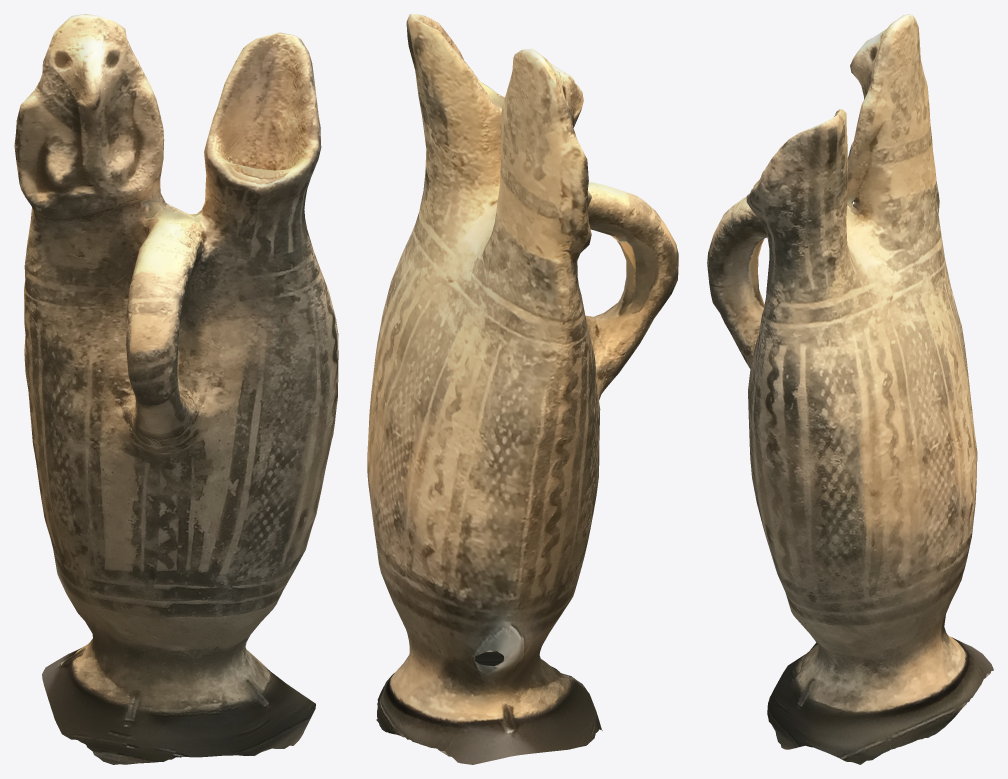
File: toy.glb
3 views of the same model, side by side, from view 1: azimuth 30°, elevation 25°; view 2: azimuth 150°, elevation 25°; view 3: azimuth 270°, elevation 25° (orthographic). The views are drawn at different scales.
Parts seen in each view (by area): view 1: Object_2; view 2: Object_2; view 3: Object_2.
Boxes of the visible parts, left/top/right/bottom form: Object_2: left=14, top=14, right=338, bottom=764; Object_2: left=367, top=14, right=678, bottom=764; Object_2: left=707, top=14, right=993, bottom=764.
Size of the model in its own units: 2.13 by 5.69 by 2.22.
Materials: 1 (1 with a texture image).
